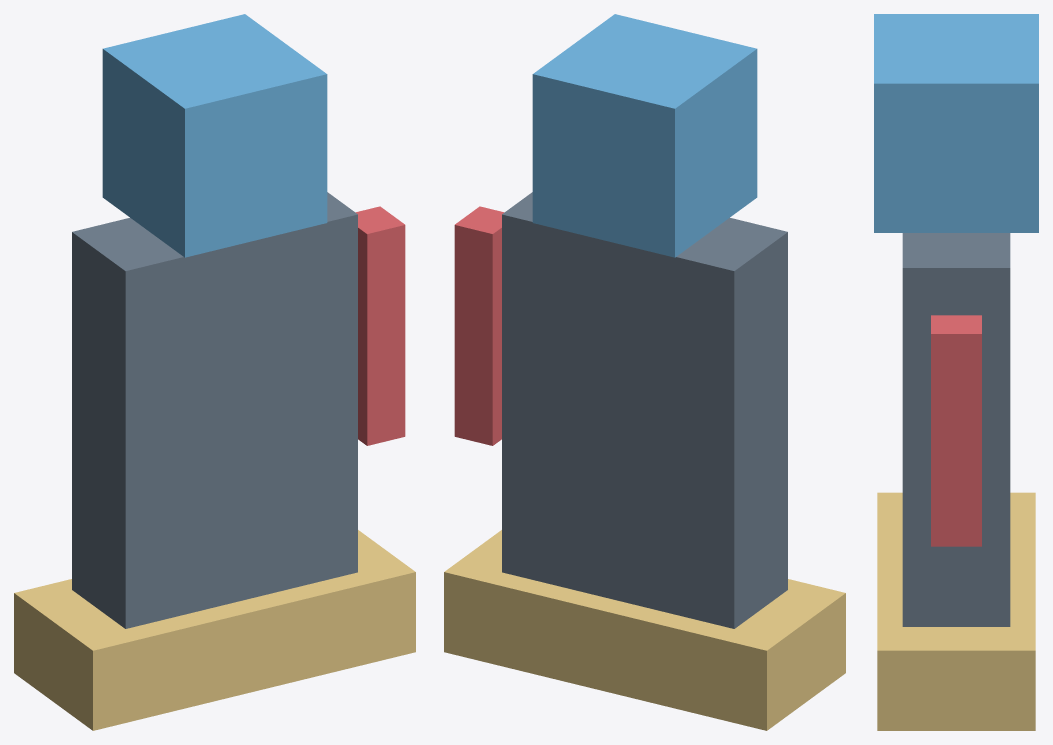
The model's file is modelviewer-demo.gltf.
3 renders of one model, left to right at view 1: azimuth 30°, elevation 25°; view 2: azimuth 150°, elevation 25°; view 3: azimuth 270°, elevation 25°, orthographic.
Bounding box in the file's own units: 1.24 × 2.1 × 0.52.
